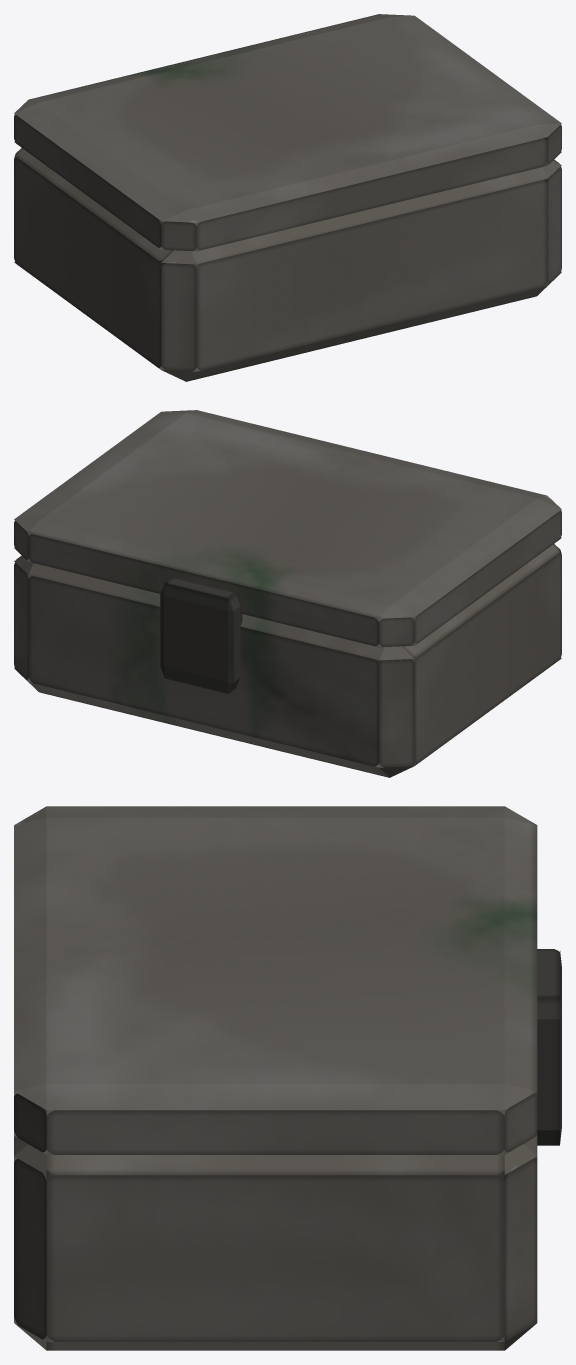
The model's file is container.obj.
3 renders of one model, top to bottom at view 1: azimuth 30°, elevation 25°; view 2: azimuth 150°, elevation 25°; view 3: azimuth 270°, elevation 25°, orthographic. The views are drawn at different scales.
Parts seen in each view (by area): view 1: lid, holder; view 2: lid, holder, lock; view 3: lid, holder, lock.
Part boxes in pixels (bbox=[...]): lid: bbox=[14, 14, 561, 251]; holder: bbox=[14, 148, 561, 381]; lid: bbox=[14, 410, 561, 647]; holder: bbox=[14, 544, 561, 777]; lock: bbox=[160, 578, 242, 693]; lid: bbox=[14, 806, 537, 1154]; holder: bbox=[14, 1108, 537, 1350]; lock: bbox=[537, 949, 561, 1145].
Bounding box in the file's own units: 1.38 × 0.5625 × 1.05.
1 material, 1 textured.
